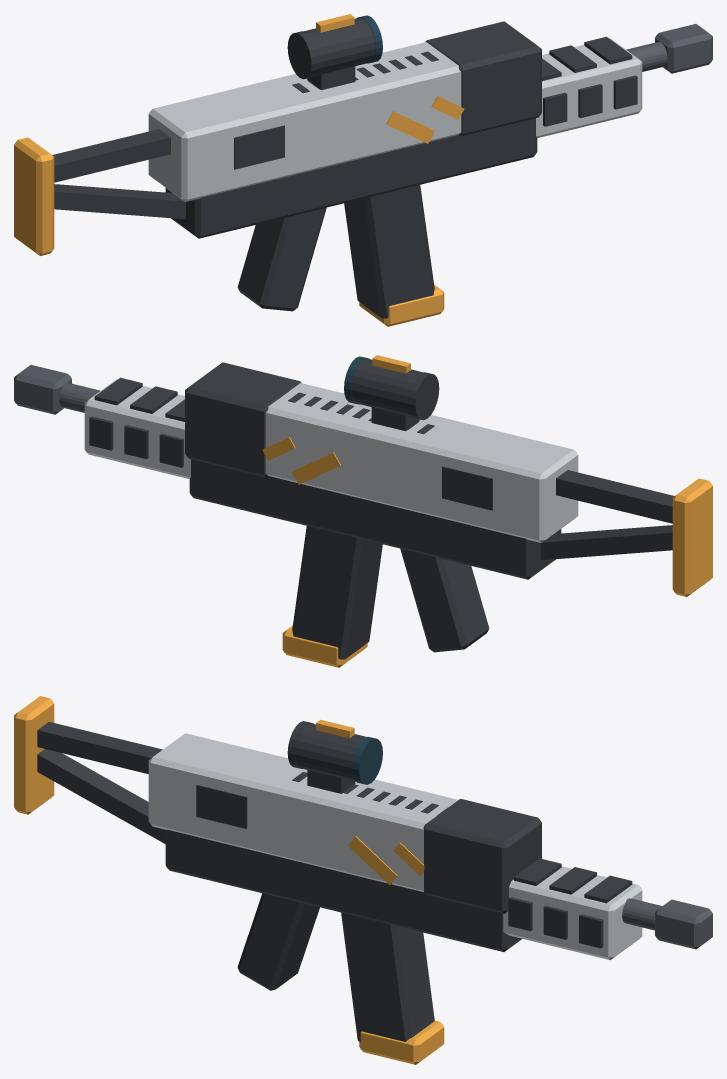
The model's file is smg_orange.glb.
3 renders of one model, top to bottom at view 1: azimuth 30°, elevation 25°; view 2: azimuth 150°, elevation 25°; view 3: azimuth 330°, elevation 25°, orthographic.
Parts seen in each view (by area): view 1: smg_orange; view 2: smg_orange; view 3: smg_orange.
Boxes of the visible parts, <box> form: smg_orange: <box>14,14,712,326</box>; smg_orange: <box>14,355,712,667</box>; smg_orange: <box>14,696,712,1064</box>.
Bounding box in the file's own units: 0.6765 × 0.292 × 0.066.
